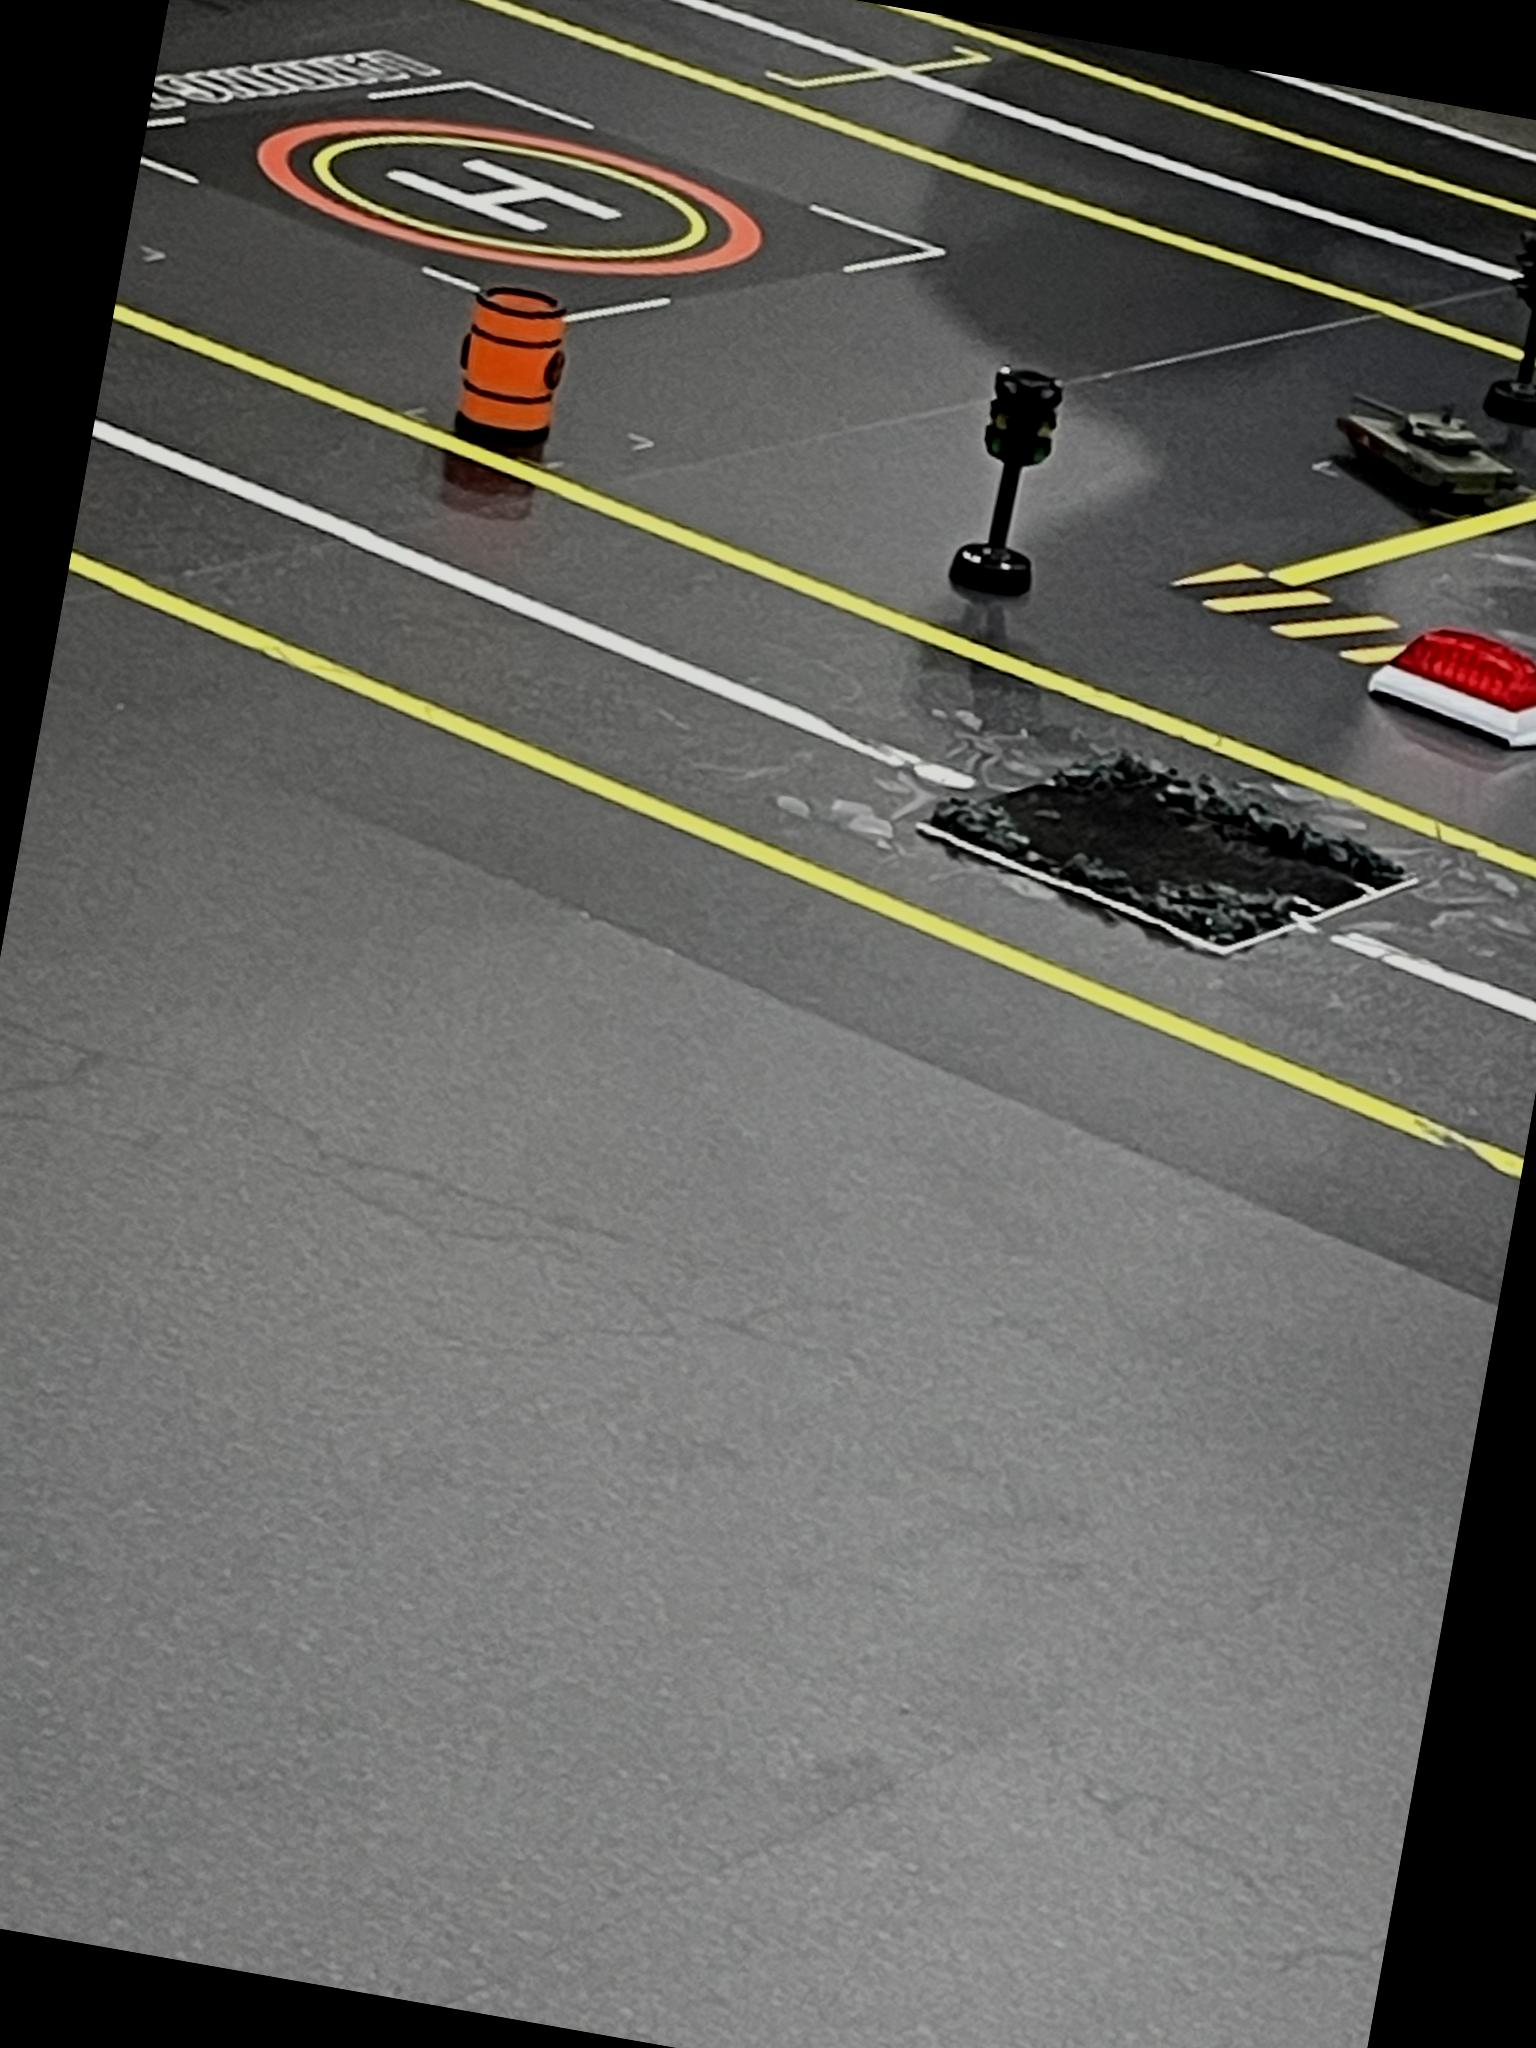Hazmat: (445, 281, 582, 452)
Tank: (1326, 381, 1536, 531)
